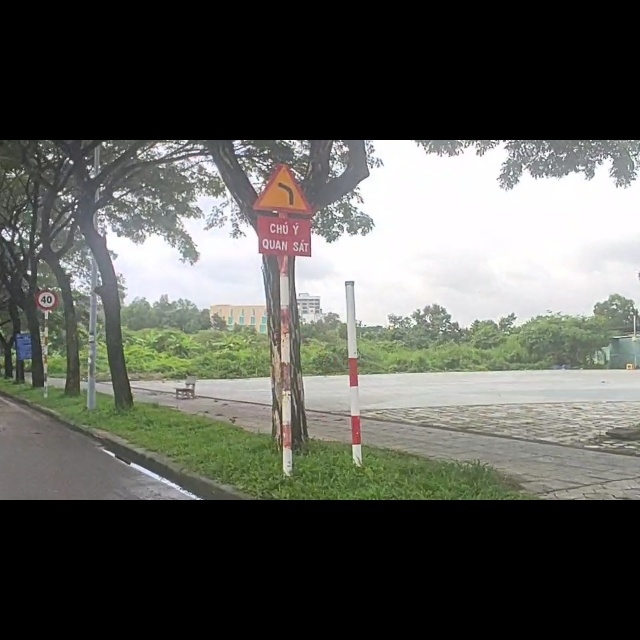bien_nguy_hiem: (251, 38, 320, 134), (36, 263, 59, 303)
